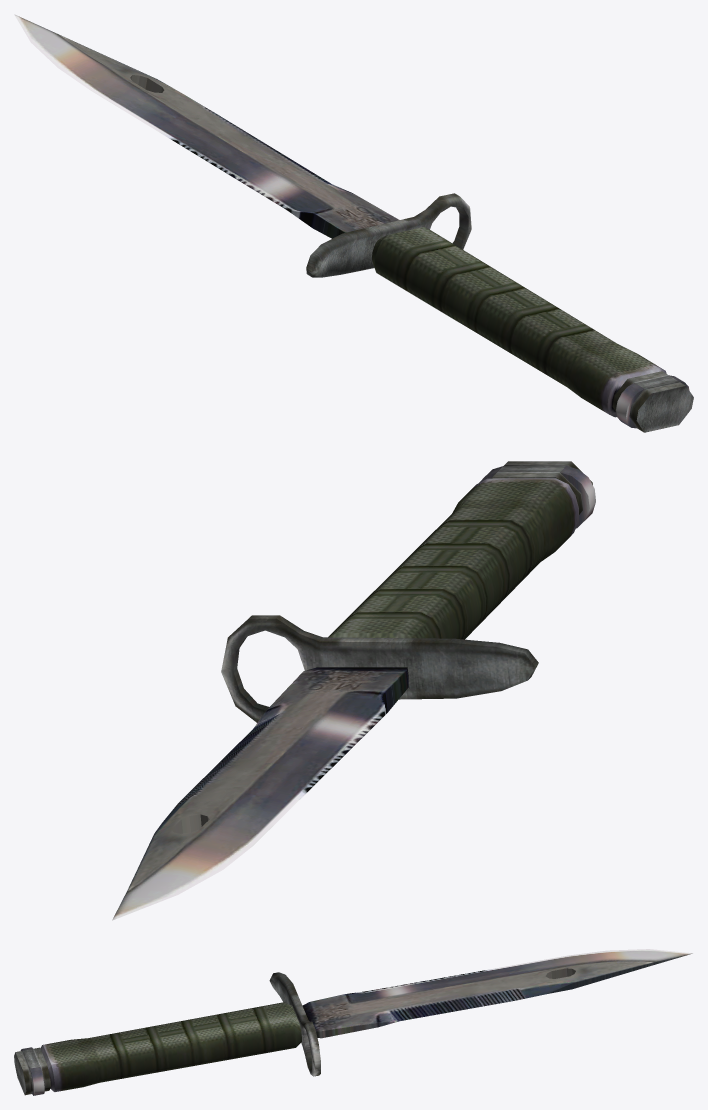
The picture shows the model from 3 angles, top to bottom: view 1: azimuth 30°, elevation 25°; view 2: azimuth 150°, elevation 25°; view 3: azimuth 270°, elevation 25°; orthographic projection. The views are drawn at different scales.
Visible parts, largest first — view 1: _m9k_1st; view 2: _m9k_1st; view 3: _m9k_1st.
Boxes of the visible parts, x1,y1,x2,y2 form: _m9k_1st: (14, 14, 693, 432); _m9k_1st: (112, 461, 595, 920); _m9k_1st: (14, 949, 692, 1095).
Size of the model in its own units: 0.1055 by 0.049 by 0.3926.
1 material, 1 textured.
